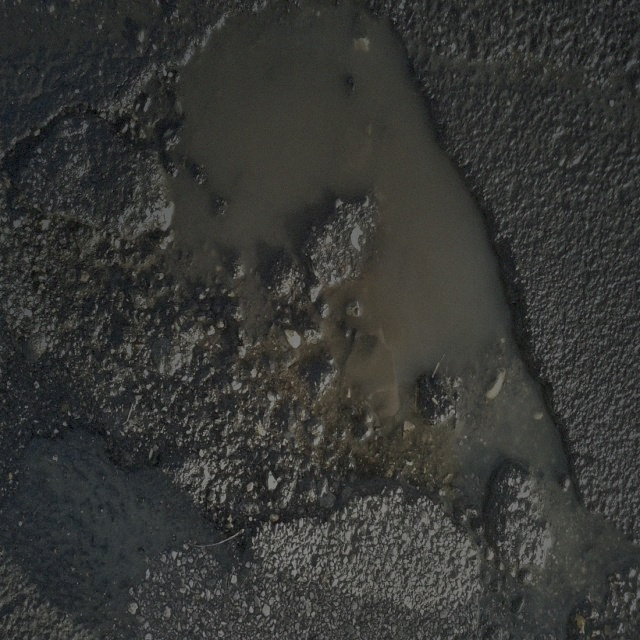pothole: (123, 22, 592, 540)
